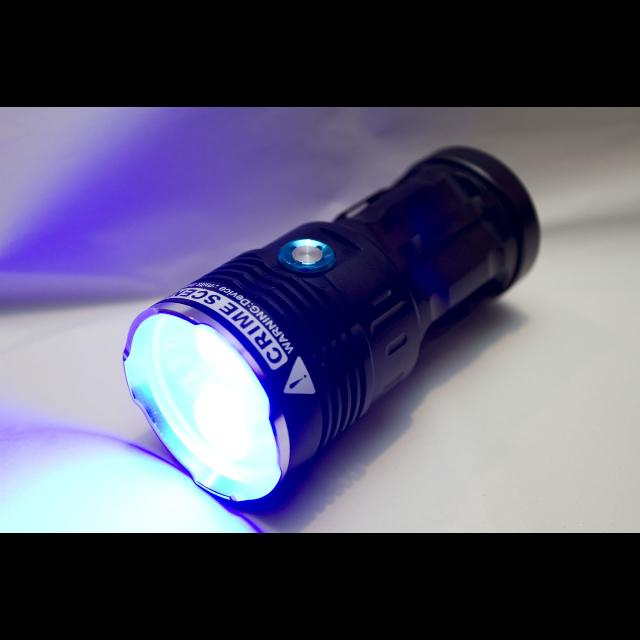Flashlight: (117, 139, 548, 517)
